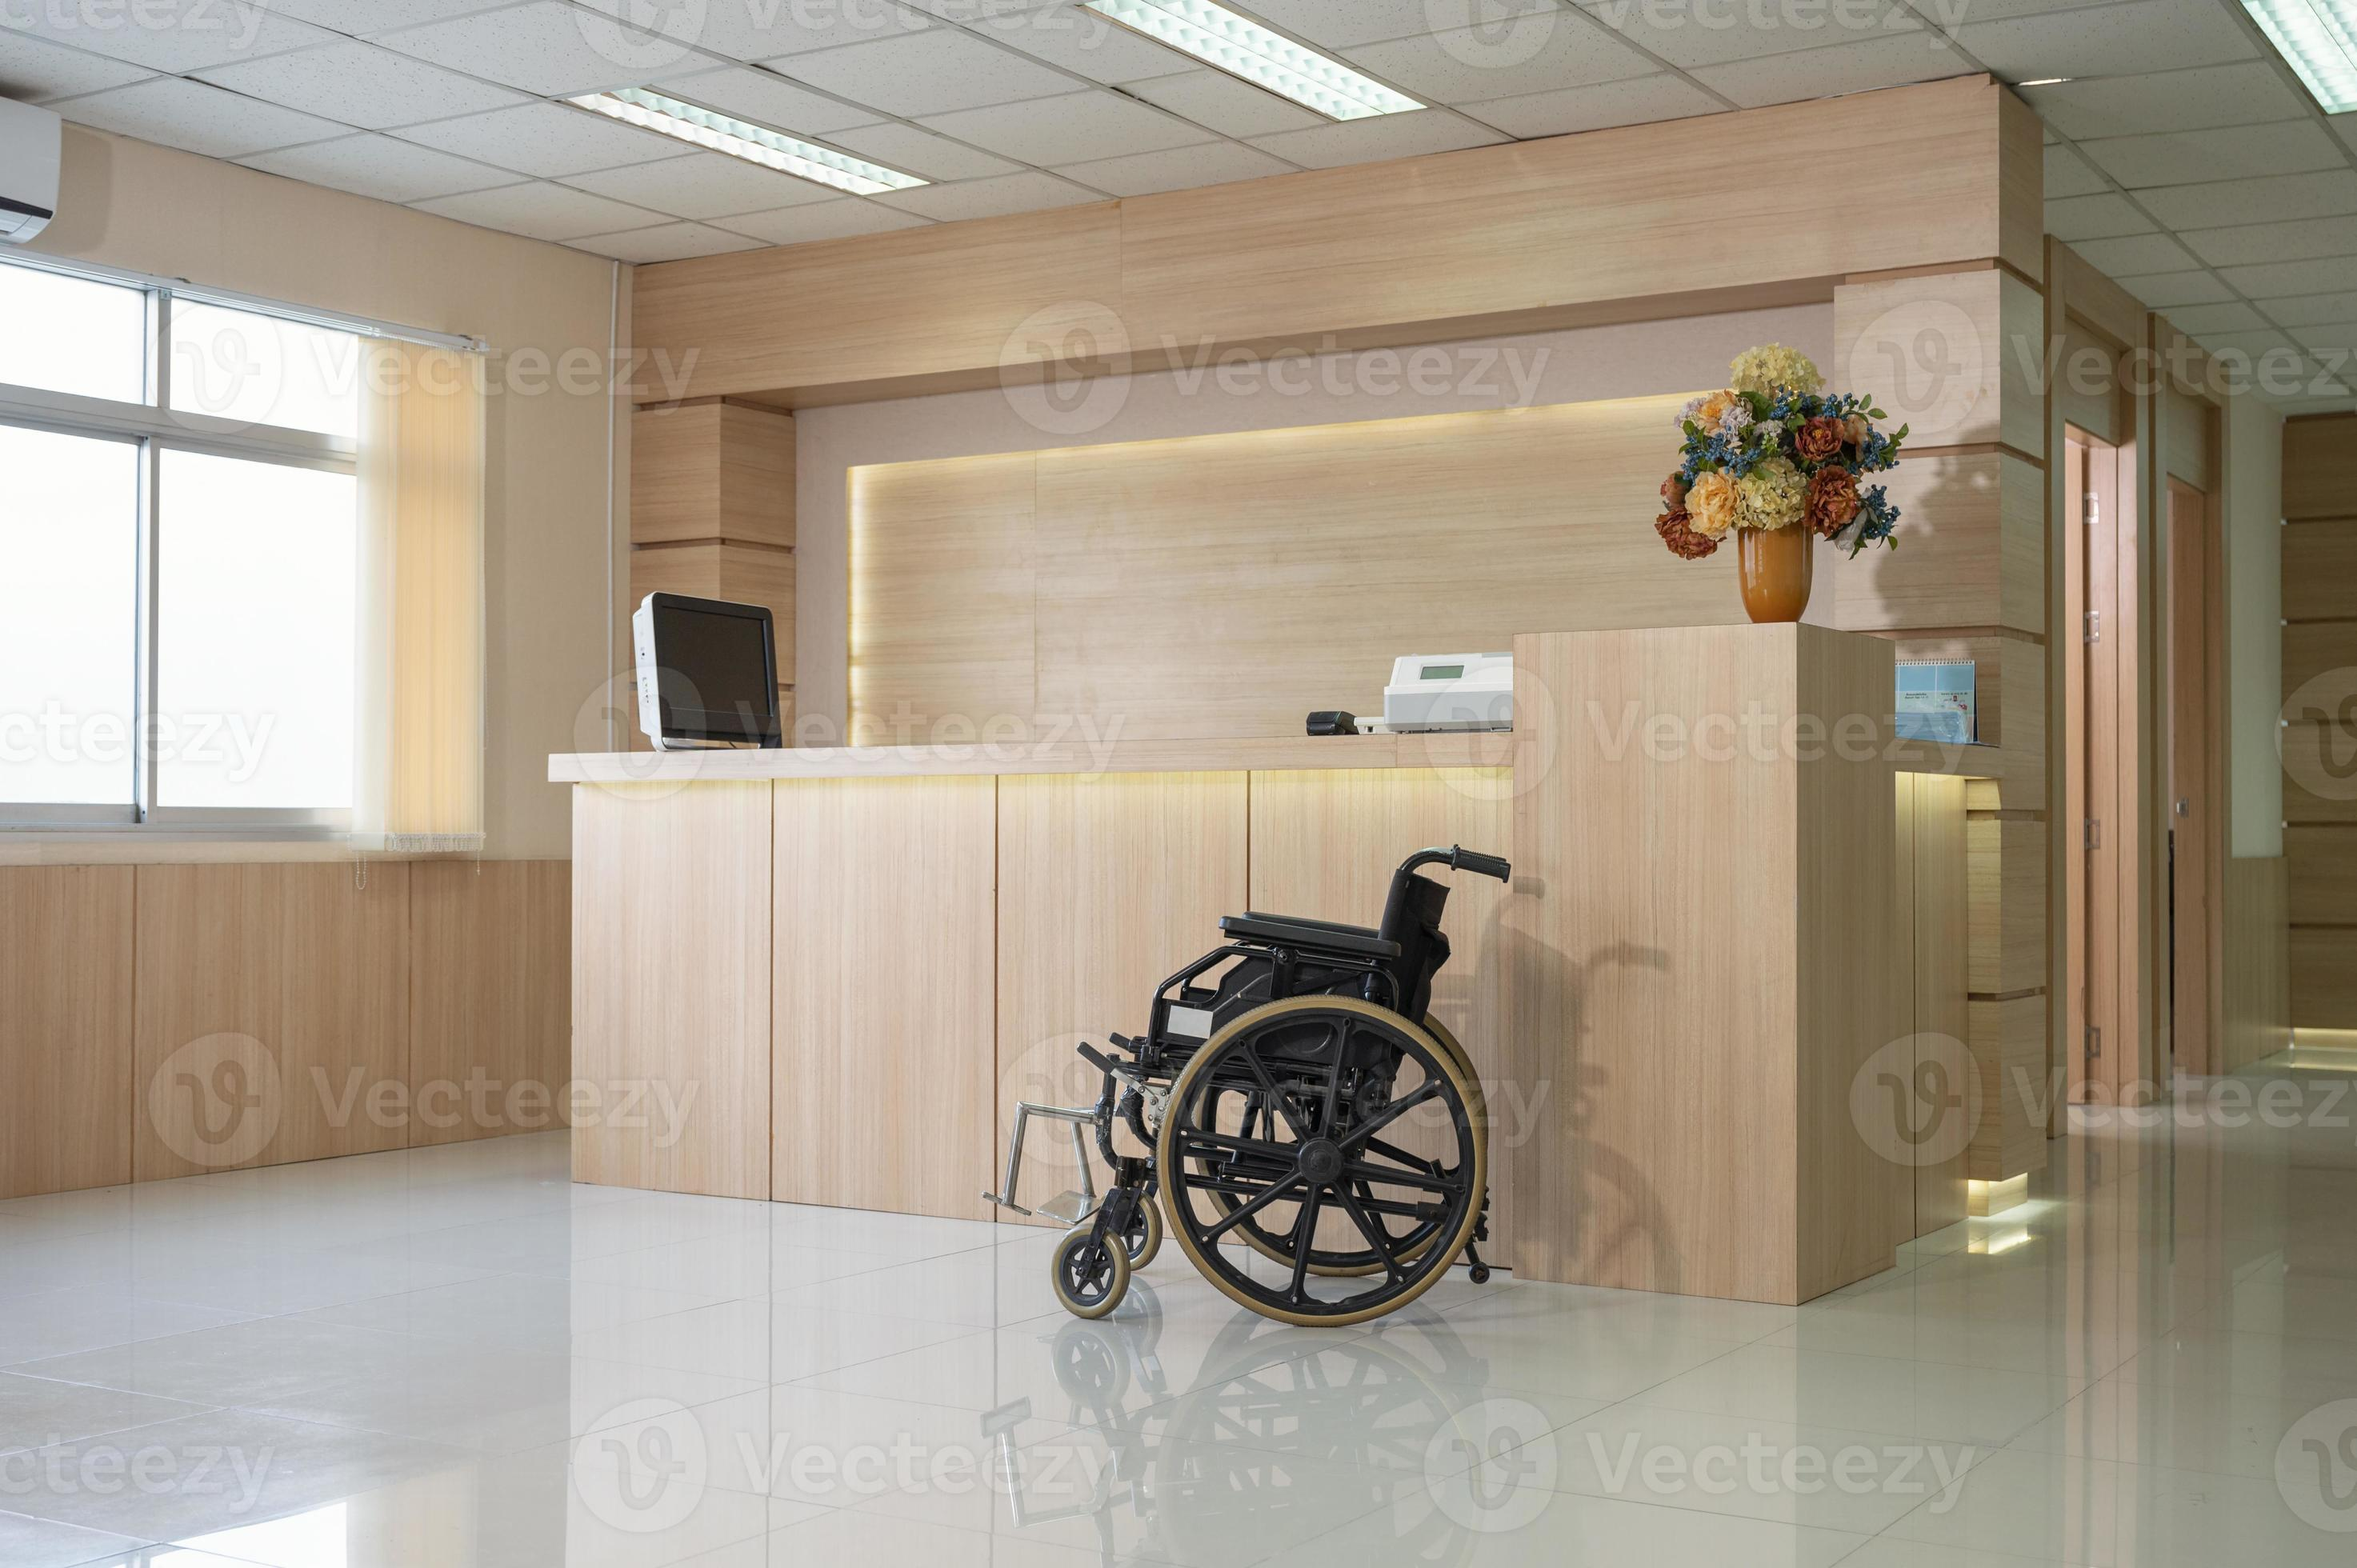computer: (621, 595, 786, 749)
counter: (542, 630, 1937, 1305)
wheel_chair: (992, 843, 1524, 1332)
